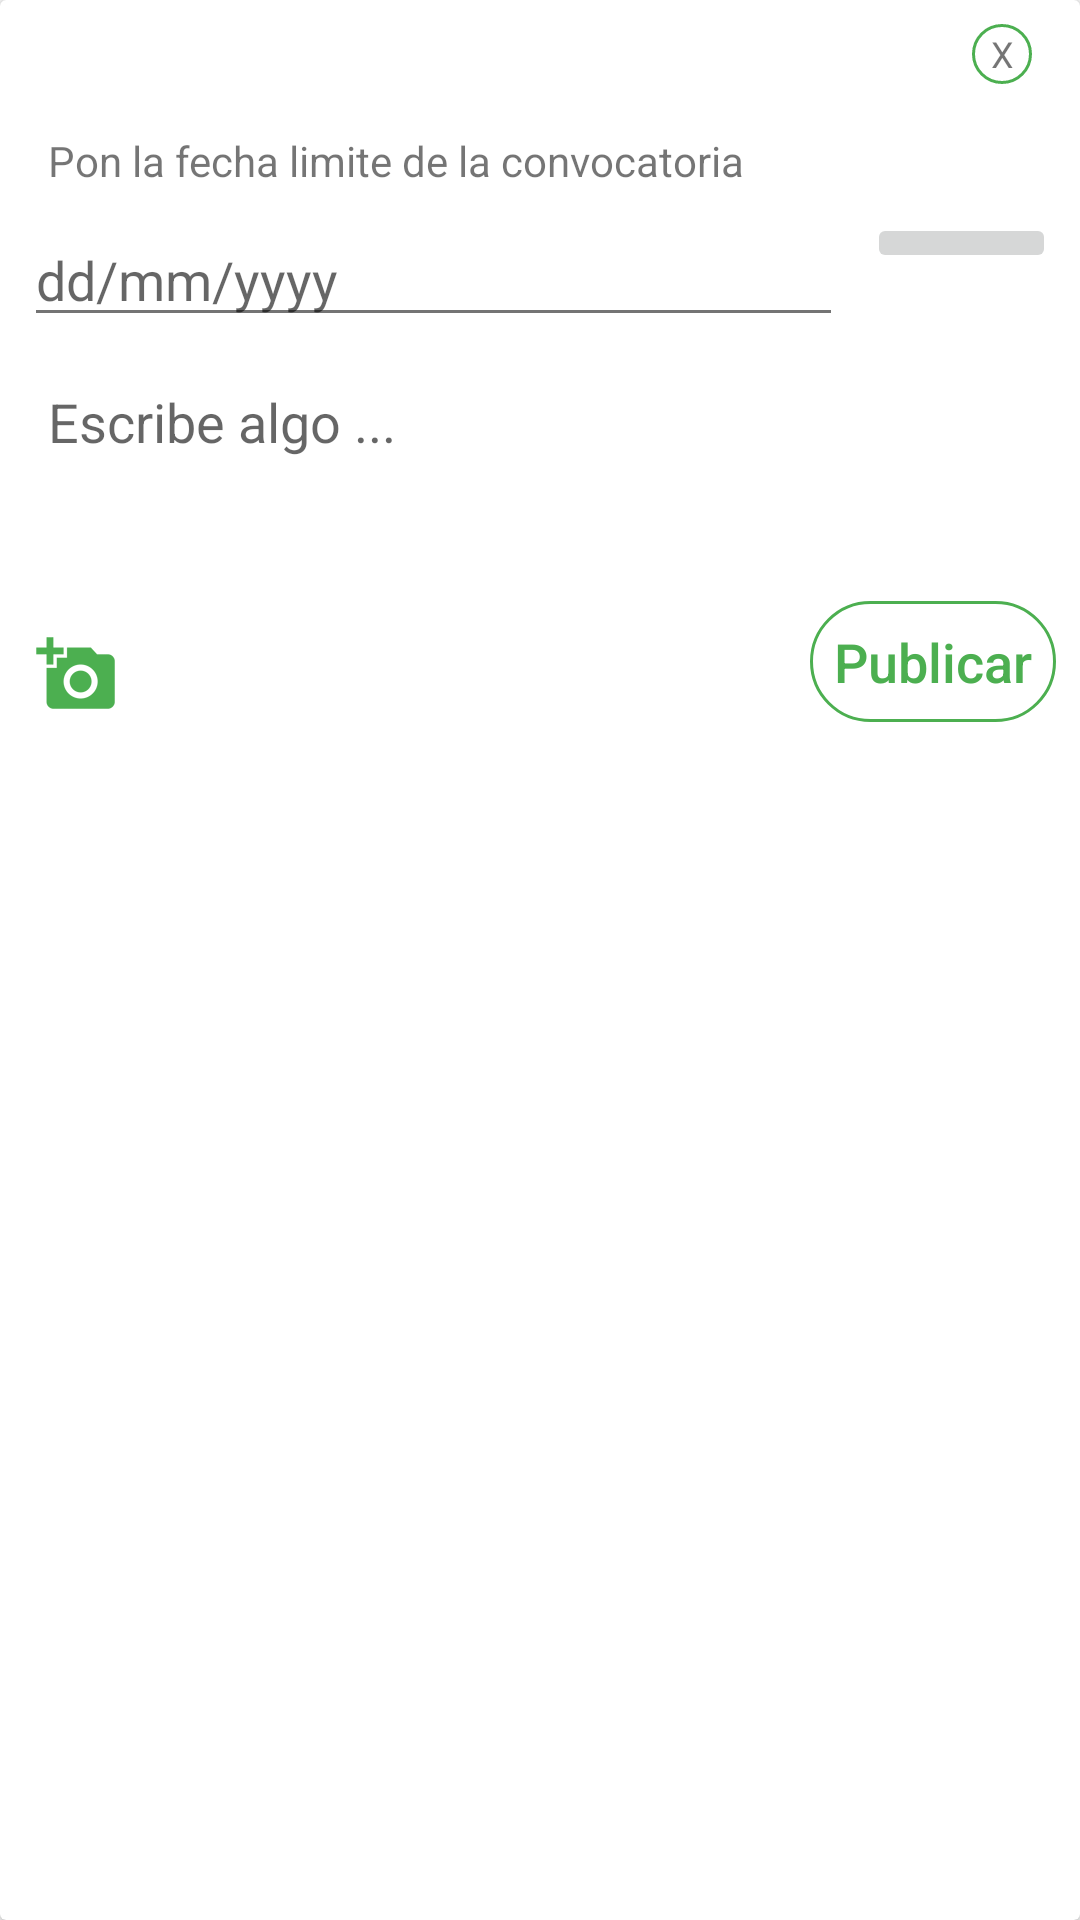

Point at icon controls on the screen. Image size 1080px×1920px, points as (x=x, y=y).
camera: (x=75, y=673)
